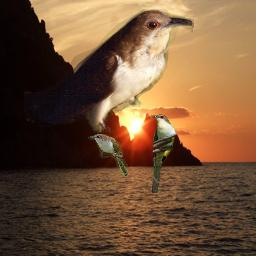Cuckoo: (24, 9, 194, 133), (150, 114, 177, 193), (88, 134, 128, 176)
